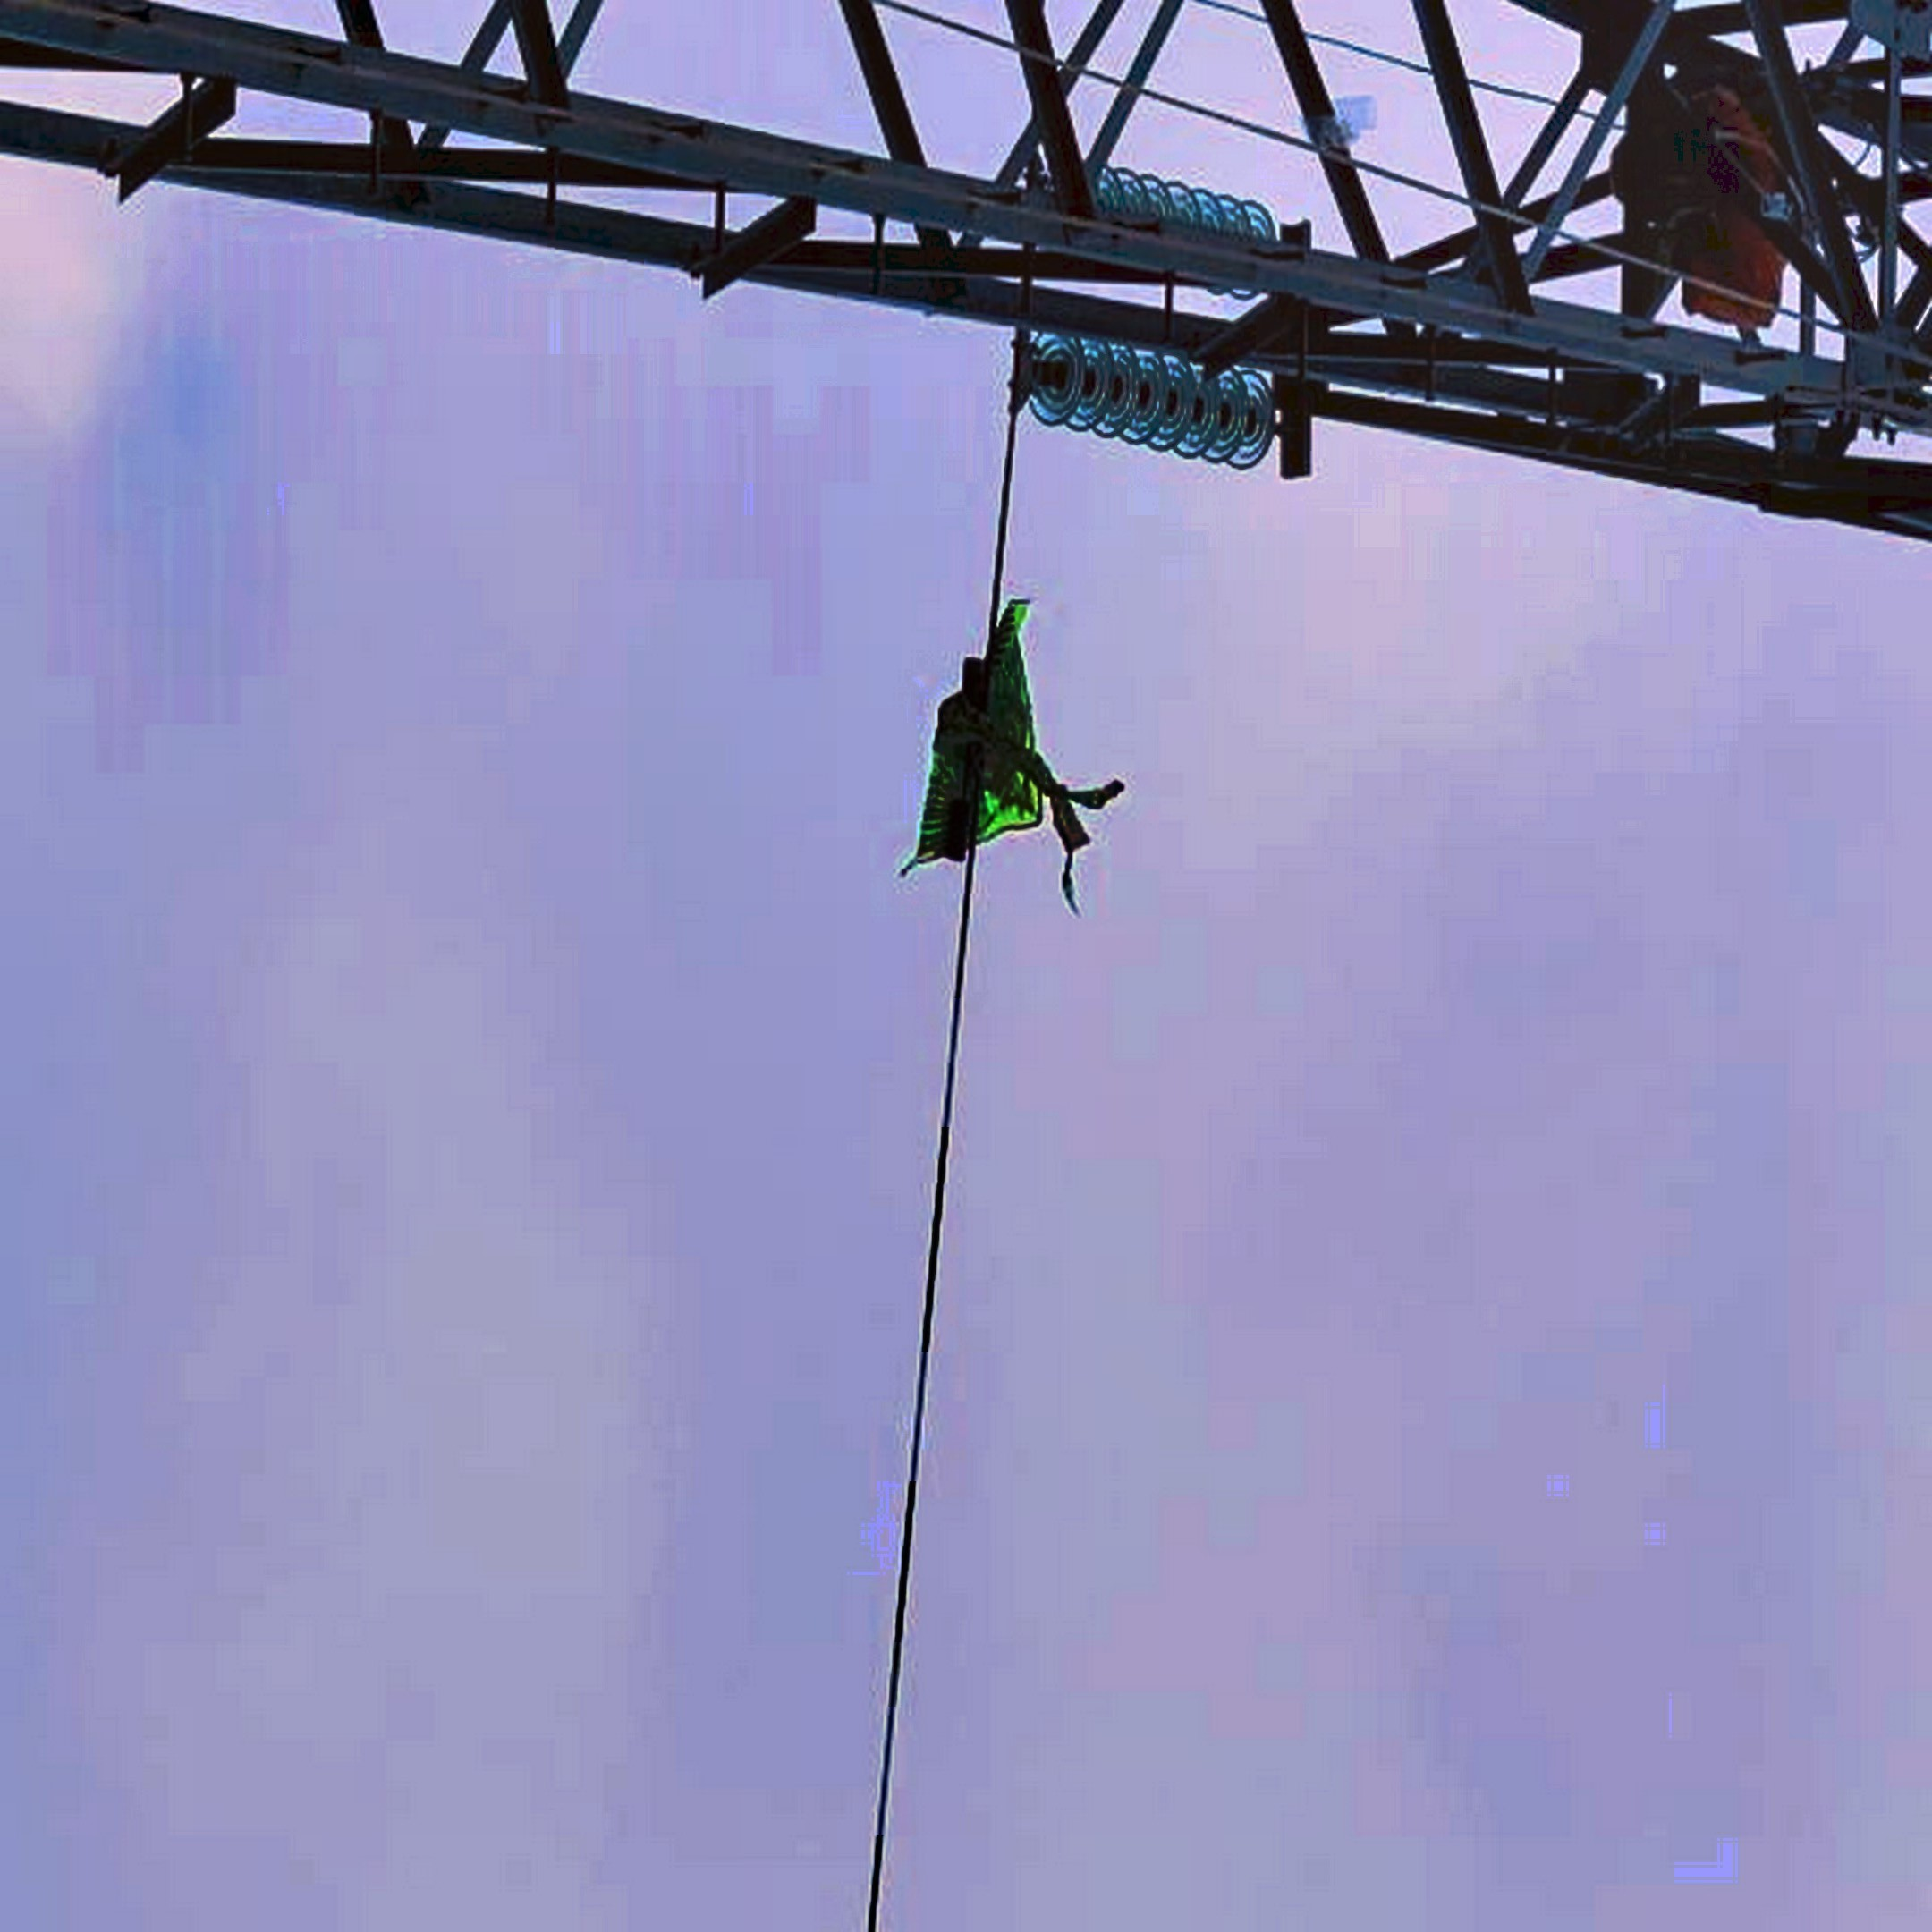wire foreign body: (865, 573, 1148, 927)
